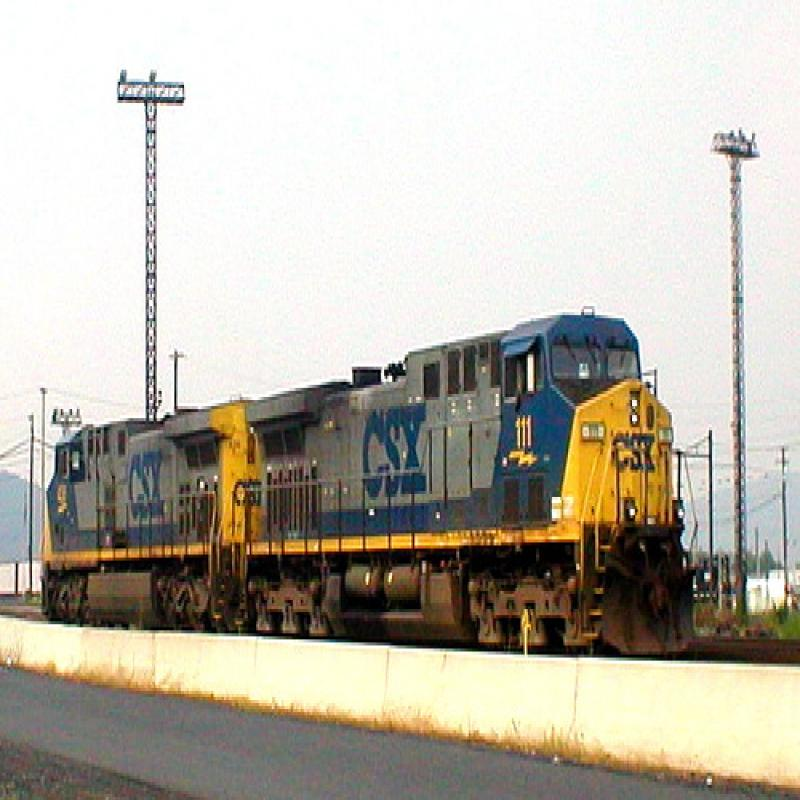train: (40, 310, 696, 653)
